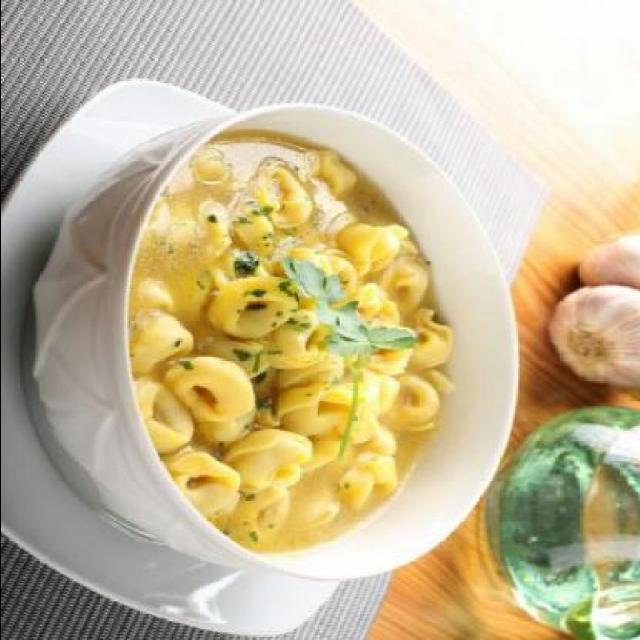Tortellini in broth: (112, 138, 462, 550)
